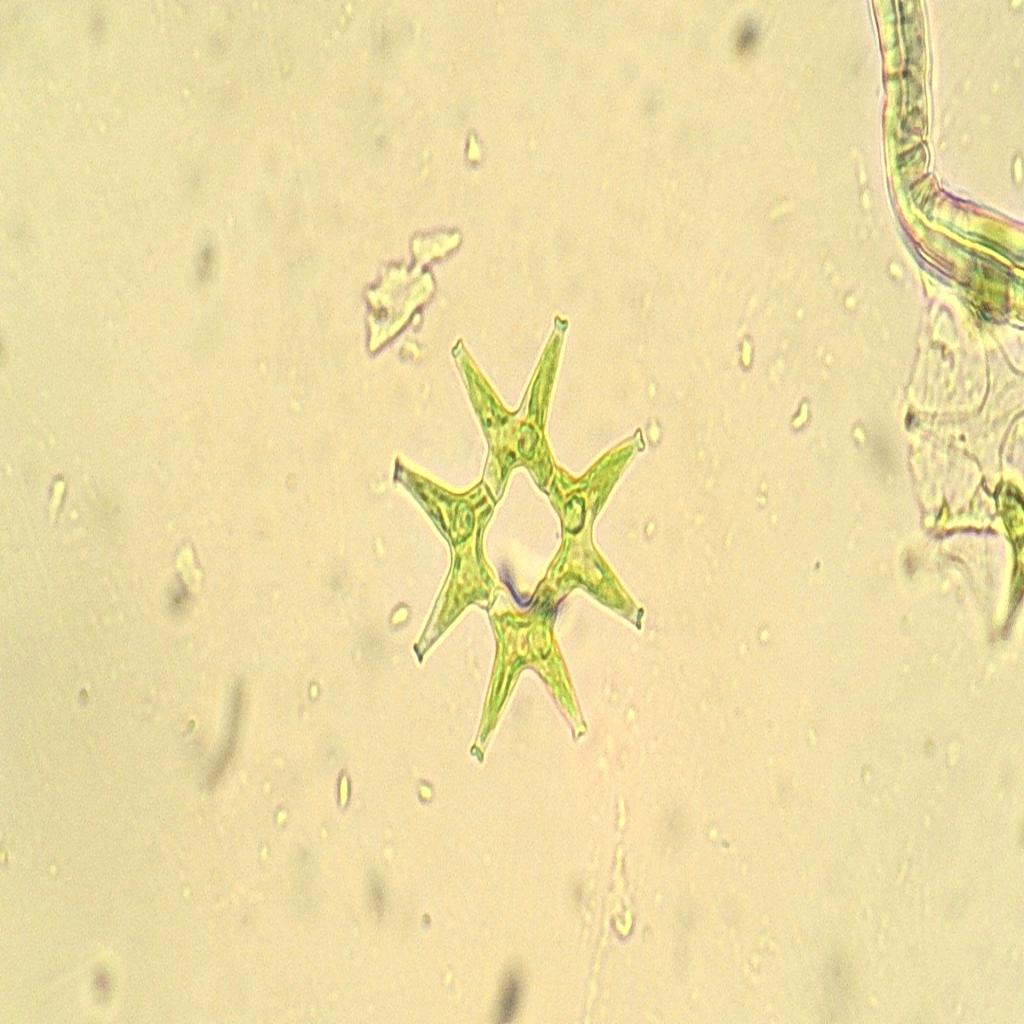Pediastrum_CO: (368, 292, 674, 796)
